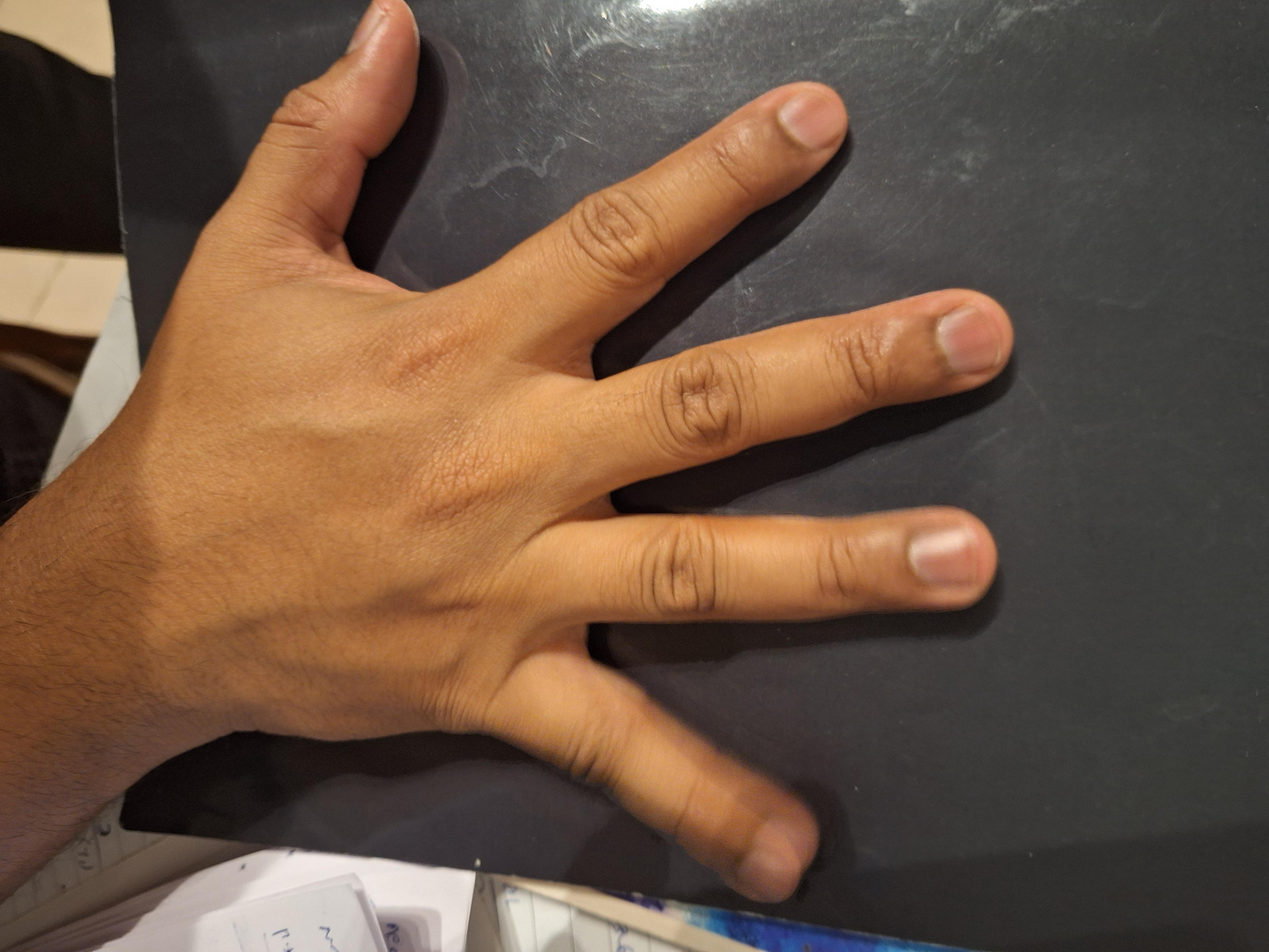Fingernail: (940, 303, 1001, 374), (778, 90, 839, 151), (908, 528, 973, 584)
